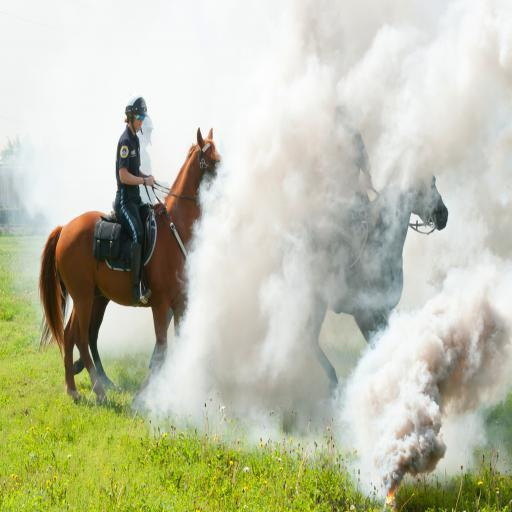horse: (40, 127, 228, 408), (280, 144, 448, 392), (37, 268, 173, 390)
